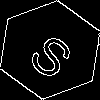S: (25, 25, 83, 82)
